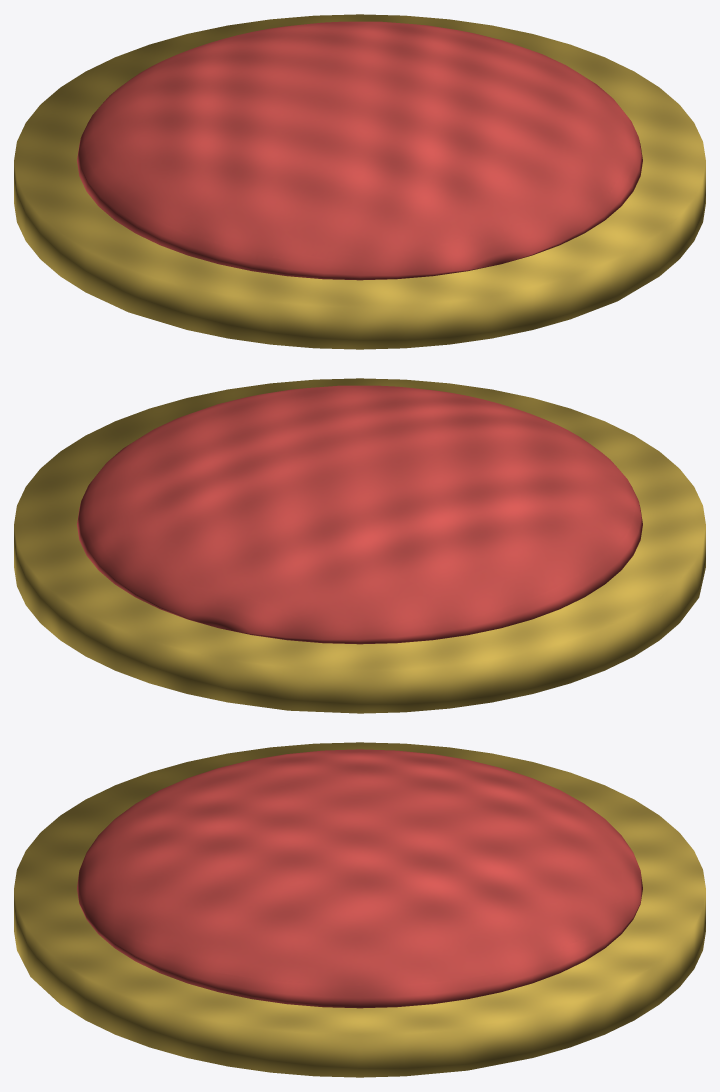
The model's file is button.glb.
The picture shows the model from 3 angles, top to bottom: view 1: azimuth 30°, elevation 25°; view 2: azimuth 150°, elevation 25°; view 3: azimuth 270°, elevation 25°; orthographic projection.
Parts seen in each view (by area): view 1: cap, button_base; view 2: cap, button_base; view 3: cap, button_base.
Boxes of the visible parts, x1=… form: cap: x1=77, y1=21, x2=642, y2=280; button_base: x1=14, y1=14, x2=705, y2=349; cap: x1=77, y1=385, x2=642, y2=644; button_base: x1=14, y1=378, x2=705, y2=713; cap: x1=77, y1=749, x2=642, y2=1008; button_base: x1=14, y1=742, x2=705, y2=1077.
Size of the model in its own units: 4.4 by 0.8 by 4.4.
1 material, 1 textured.
